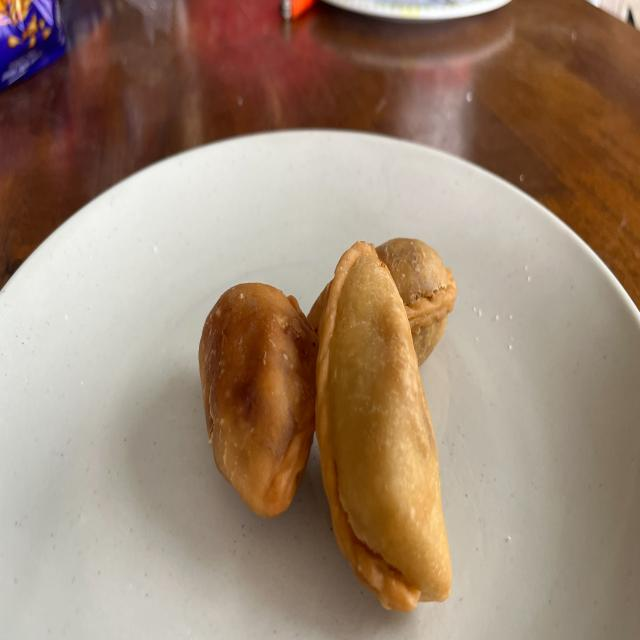karipap: (315, 242, 451, 611), (199, 282, 319, 518), (376, 238, 456, 364), (308, 284, 330, 333)
